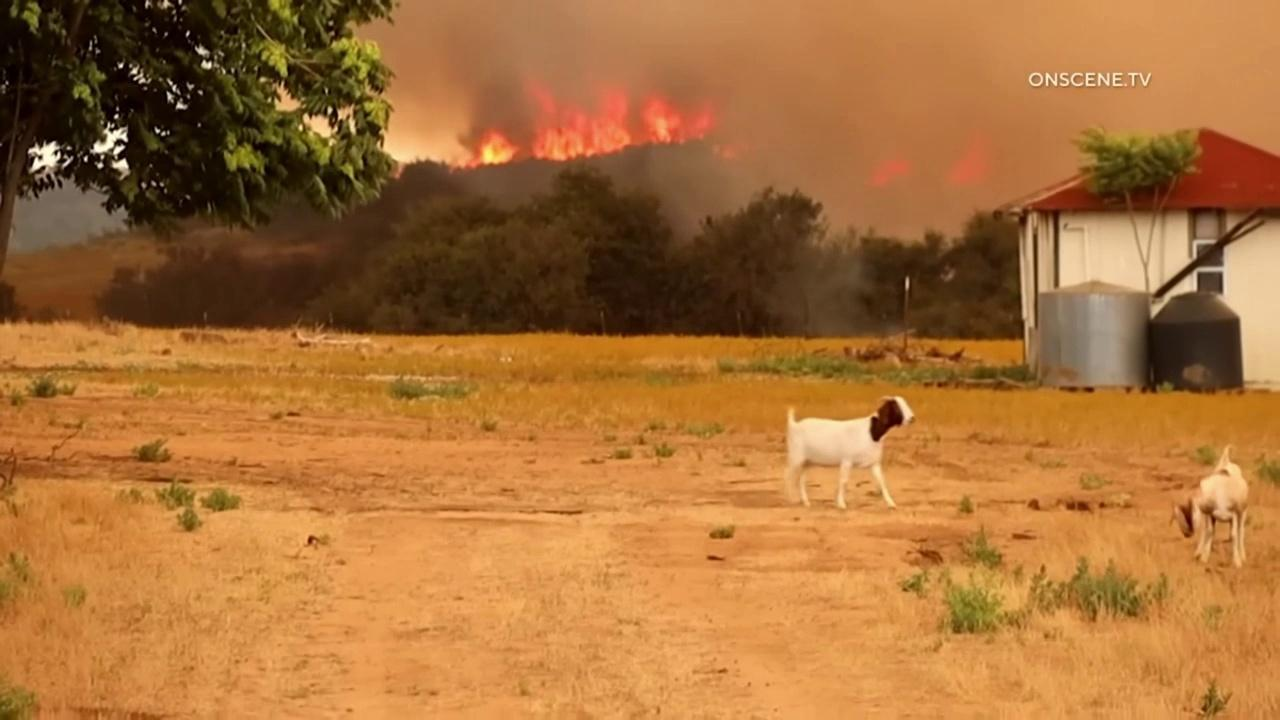fire: (525, 77, 716, 162), (449, 128, 522, 174), (948, 124, 993, 185), (862, 159, 909, 189), (714, 143, 759, 160), (395, 167, 402, 178)
smoke: (338, 0, 1280, 244)
